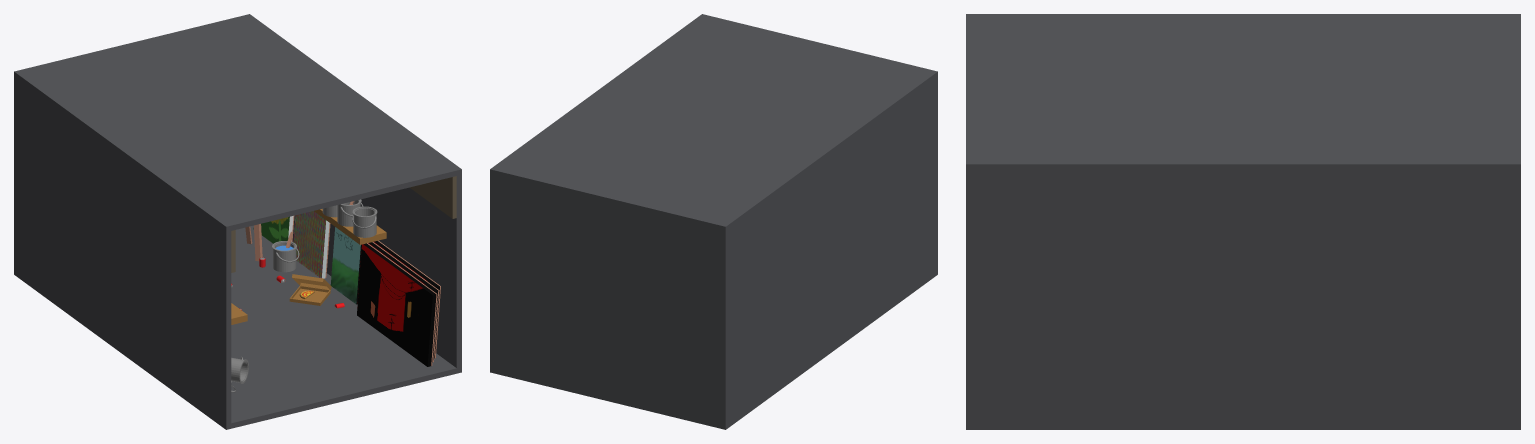
File: Zoovre_room.glb
3 views of the same model, side by side, from view 1: azimuth 30°, elevation 25°; view 2: azimuth 150°, elevation 25°; view 3: azimuth 270°, elevation 25° (orthographic). The views are drawn at different scales.
Parts seen in each view (by area): view 1: box, Cube.007, Cube.005, bucket_2, Cube.002, wanddeko2, Pizza box, regal, Cube.006, Cylinder, Cube.008, Cube.009; view 2: box; view 3: box.
Part boxes in pixels (<box>): box: <box>14,14,461,429</box>; Cube.007: <box>357,243,437,366</box>; Cube.005: <box>293,211,330,278</box>; bucket_2: <box>231,199,377,392</box>; Cube.002: <box>330,227,361,304</box>; wanddeko2: <box>231,176,456,272</box>; Pizza box: <box>289,274,331,305</box>; regal: <box>231,209,386,324</box>; Cube.006: <box>253,215,294,243</box>; Cylinder: <box>272,241,296,272</box>; Cube.008: <box>368,242,439,362</box>; Cube.009: <box>373,240,440,358</box>; box: <box>490,14,937,429</box>; box: <box>966,14,1520,429</box>.
Size of what is drawn, in the model's own units: 4.57 by 3.76 by 7.12.
19 materials, 8 textured.
